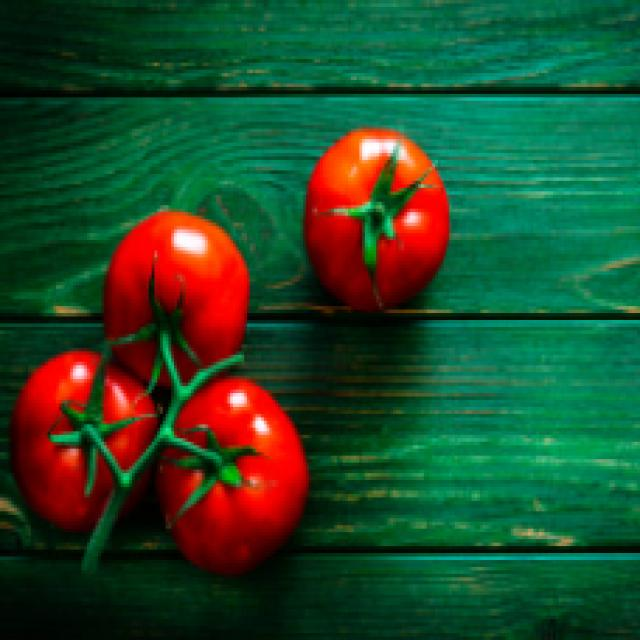Tomato: (298, 121, 457, 330), (88, 198, 258, 380), (167, 377, 311, 570), (12, 346, 161, 532)
